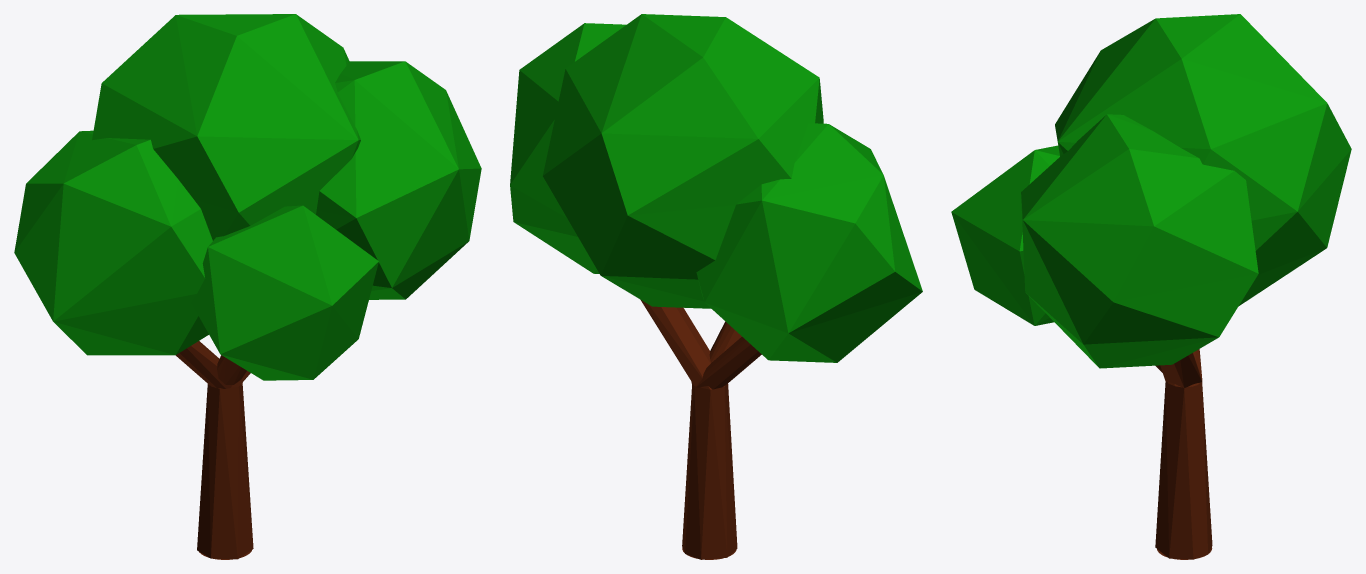
The model's file is arbolotro.obj.
3 renders of one model, left to right at view 1: azimuth 30°, elevation 25°; view 2: azimuth 150°, elevation 25°; view 3: azimuth 270°, elevation 25°, orthographic.
Visible parts, largest first — view 1: Icosphere_000_0, Cylinder_0; view 2: Icosphere_000_0, Cylinder_0; view 3: Icosphere_000_0, Cylinder_0.
Part boxes in pixels (left/top/right/bottom): Icosphere_000_0: left=14, top=14, right=481, bottom=380; Cylinder_0: left=175, top=341, right=253, bottom=559; Icosphere_000_0: left=510, top=14, right=922, bottom=362; Cylinder_0: left=640, top=299, right=761, bottom=559; Icosphere_000_0: left=951, top=14, right=1351, bottom=368; Cylinder_0: left=1155, top=349, right=1212, bottom=559.
Bounding box in the file's own units: 252 × 300 × 206.
